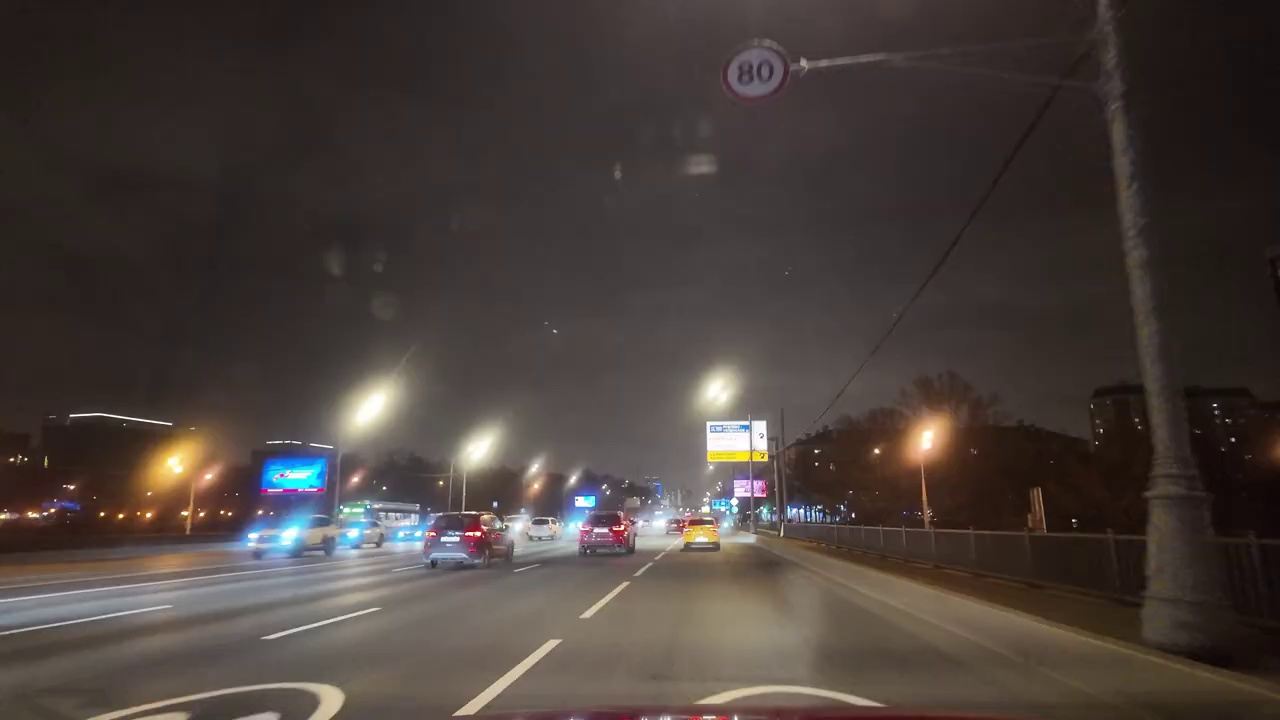acesa: (342, 378, 400, 438), (456, 424, 502, 473), (906, 415, 951, 465), (694, 367, 740, 415)
